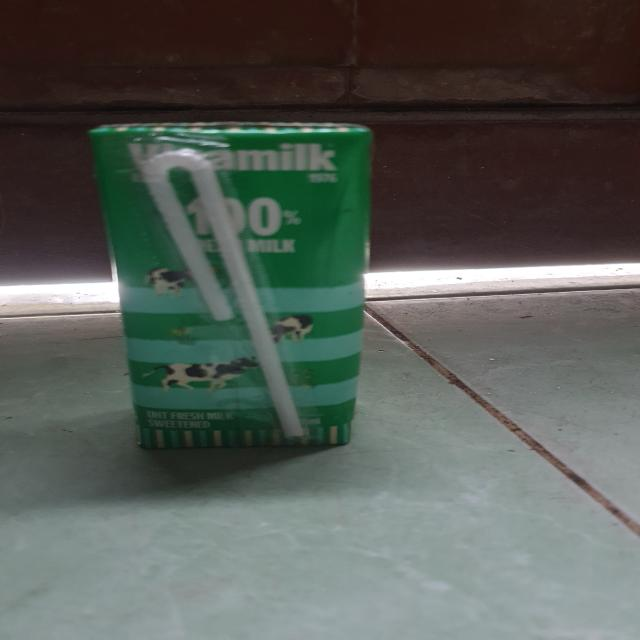Vina: (103, 123, 371, 452)
